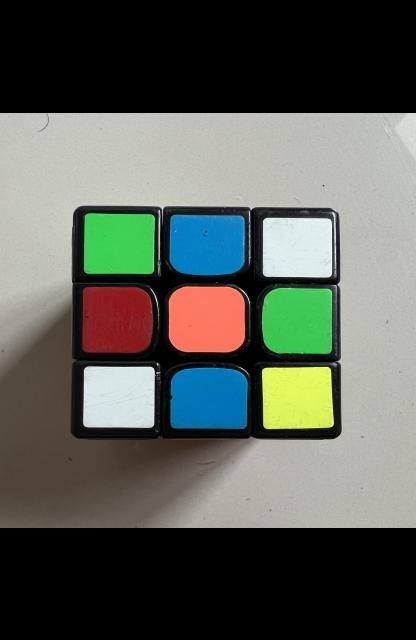Blue: (170, 367, 248, 428), (169, 214, 244, 274)
Green: (262, 286, 332, 352), (84, 212, 156, 273)
Orange: (168, 285, 245, 351)
Red: (82, 286, 153, 352)
White: (83, 366, 154, 427), (263, 217, 332, 277)
Yellow: (262, 366, 334, 428)
